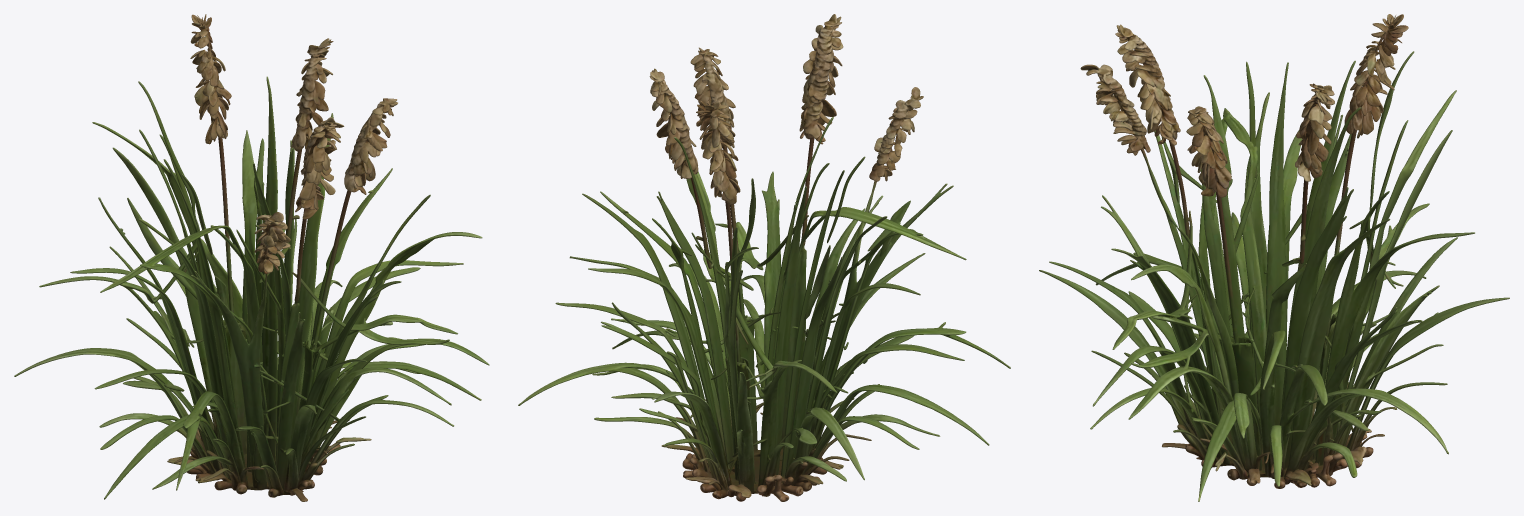
File: horsetail-reeds.glb
3 renders of one model, left to right at view 1: azimuth 30°, elevation 25°; view 2: azimuth 150°, elevation 25°; view 3: azimuth 270°, elevation 25°, orthographic. The views are drawn at different scales.
Parts seen in each view (by area): view 1: tripo_node_0211da09-f450-4dd0-b9cb-daad7fc72878; view 2: tripo_node_0211da09-f450-4dd0-b9cb-daad7fc72878; view 3: tripo_node_0211da09-f450-4dd0-b9cb-daad7fc72878.
Boxes of the visible parts, x1,y1,x2,y2 form: tripo_node_0211da09-f450-4dd0-b9cb-daad7fc72878: [14, 14, 489, 501]; tripo_node_0211da09-f450-4dd0-b9cb-daad7fc72878: [518, 14, 1010, 501]; tripo_node_0211da09-f450-4dd0-b9cb-daad7fc72878: [1039, 14, 1509, 501].
Size of the model in its own units: 0.9648 by 0.9794 by 0.944.
1 material, 1 textured.
